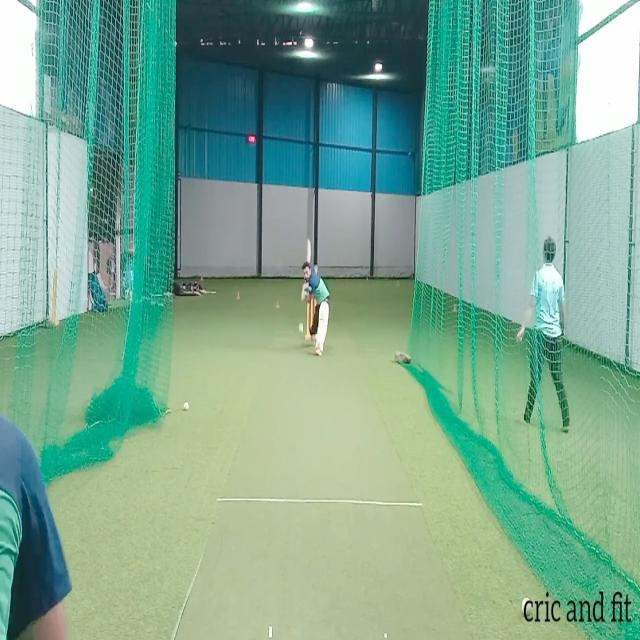batsman: (300, 237, 331, 358)
